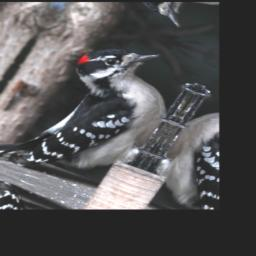Woodpecker: (0, 17, 205, 199)
